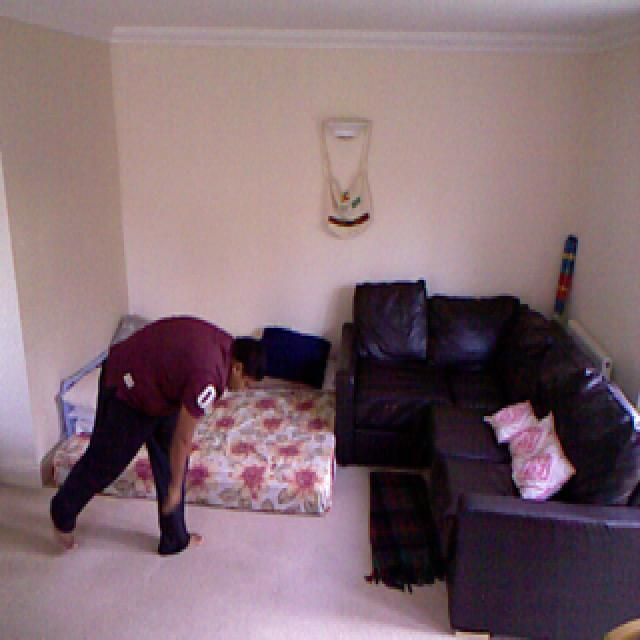NotFall: (55, 298, 265, 563)
